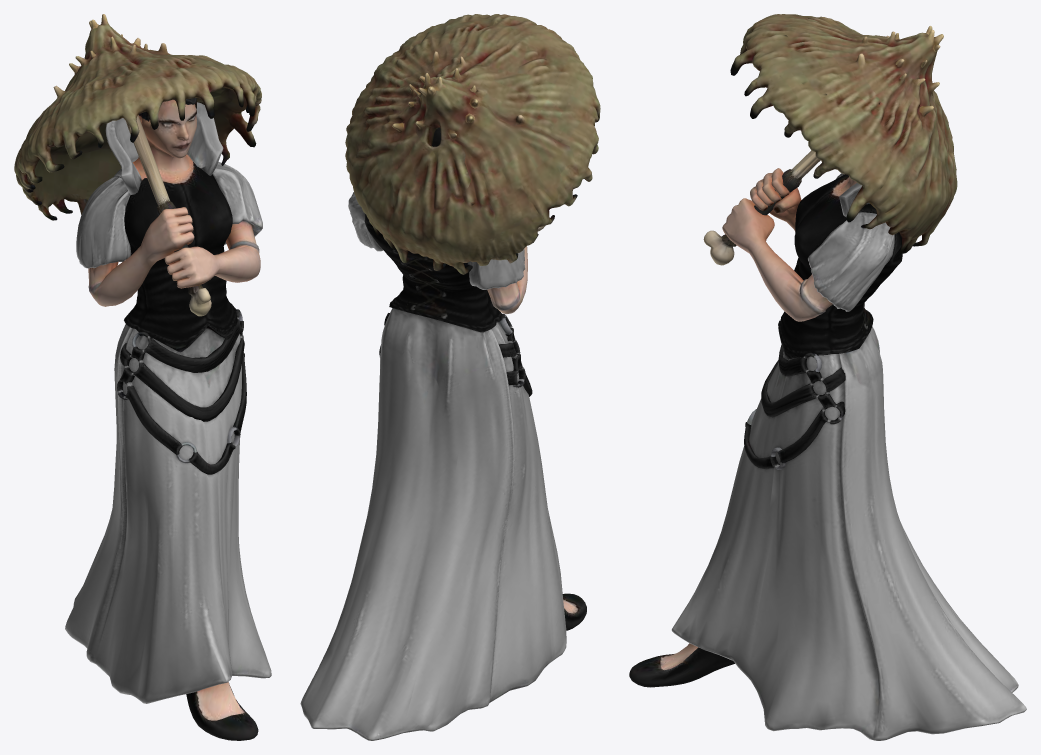
File: MZ4250 - Feonor 2025.glb
3 renders of one model, left to right at view 1: azimuth 30°, elevation 25°; view 2: azimuth 150°, elevation 25°; view 3: azimuth 270°, elevation 25°, orthographic. The views are drawn at different scales.
Visible parts, largest first — view 1: Body.002; view 2: Body.002; view 3: Body.002.
Part boxes in pixels (x1,y1,x2,y2): Body.002: (14, 14, 271, 740); Body.002: (300, 14, 600, 740); Body.002: (629, 14, 1026, 740).
Bounding box in the file's own units: 40.67 × 106 × 58.05.
1 material, 1 textured.
